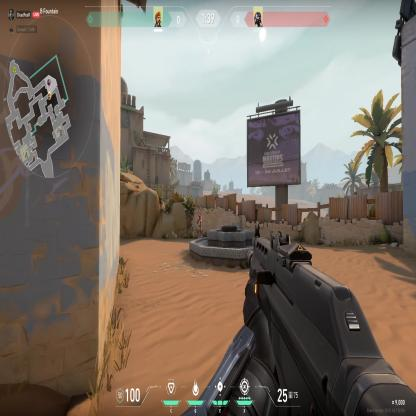enemy: (196, 210, 202, 237)
